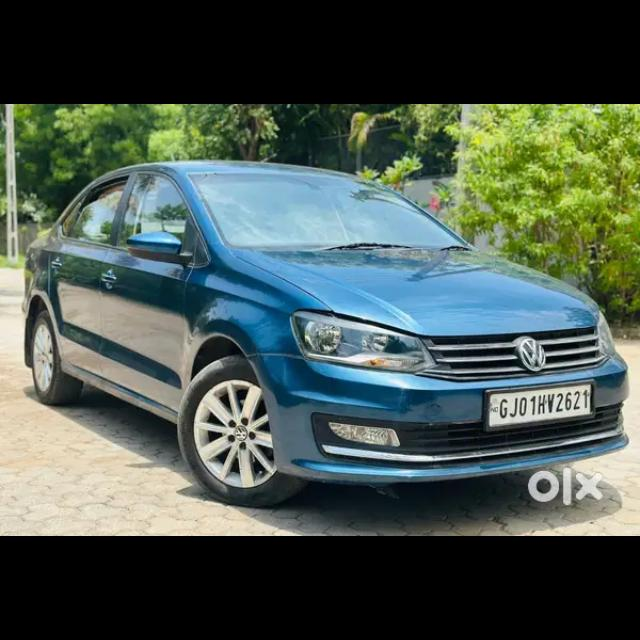vehicles: (28, 157, 634, 495)
